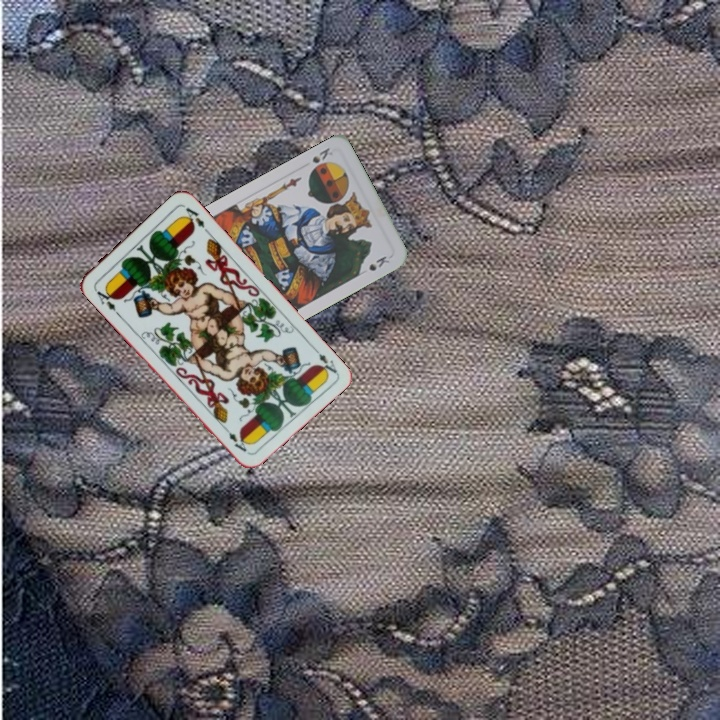EA: (308, 342, 340, 378), (90, 284, 122, 318)
SK: (305, 143, 336, 175)
